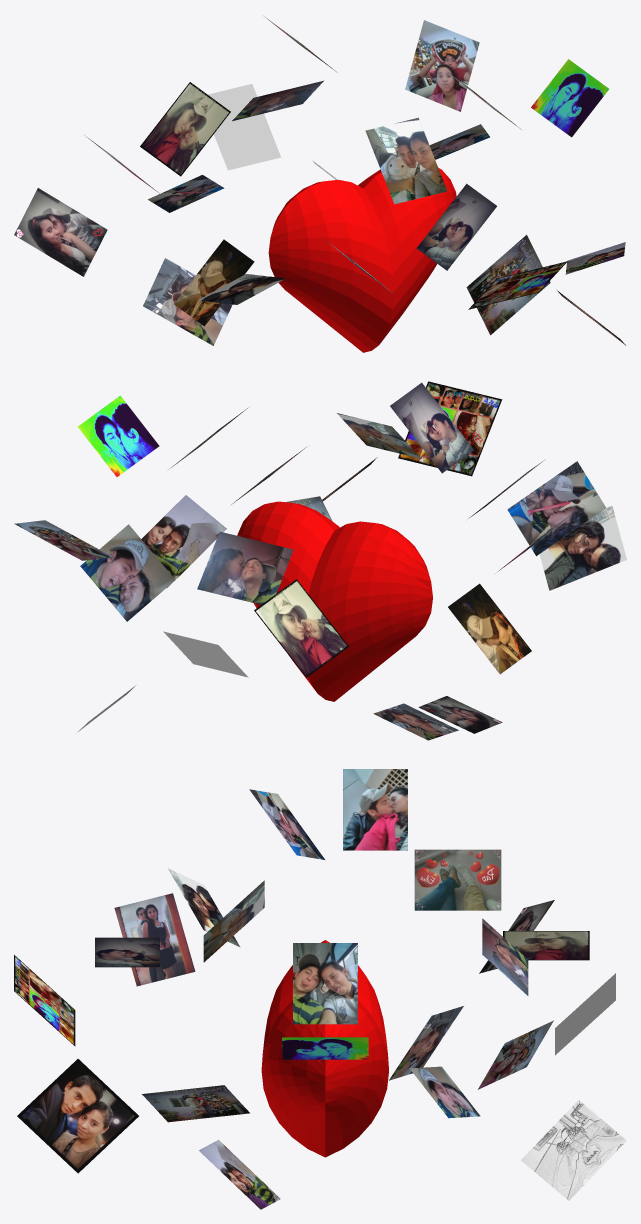
Rendered from paola.dae.
The picture shows the model from 3 angles, top to bottom: view 1: azimuth 30°, elevation 25°; view 2: azimuth 150°, elevation 25°; view 3: azimuth 270°, elevation 25°; orthographic projection. The views are drawn at different scales.
Visible parts, largest first — view 1: SketchUp, image_20, image_4, image_0, image_11, image_16, image_10, image_15, image_2, image_18, image_8, image_21 (+5 smaller); view 2: SketchUp, image_1, image_19, image_3, image_11, image_13, image_5, image_21, image_10, image_18, image_15, image_4 (+4 smaller); view 3: SketchUp, image_9, image_12, image_6, image_14, image_17, image_7, image_8, image_21, image_11, image_10, image_15 (+10 smaller).
Boxes of the visible parts, left/top/right/bottom form: SketchUp: left=268, top=168, right=456, bottom=352; image_20: left=365, top=117, right=447, bottom=204; image_4: left=405, top=20, right=479, bottom=111; image_0: left=14, top=188, right=107, bottom=276; image_11: left=140, top=82, right=230, bottom=176; image_16: left=208, top=84, right=280, bottom=170; image_10: left=416, top=183, right=496, bottom=270; image_15: left=531, top=59, right=608, bottom=137; image_2: left=143, top=258, right=232, bottom=345; image_18: left=174, top=239, right=254, bottom=326; image_8: left=466, top=235, right=550, bottom=335; image_21: left=468, top=261, right=567, bottom=309; SketchUp: left=237, top=501, right=432, bottom=701; image_1: left=507, top=461, right=605, bottom=556; image_19: left=197, top=531, right=293, bottom=604; image_3: left=80, top=524, right=175, bottom=621; image_11: left=254, top=579, right=348, bottom=677; image_13: left=539, top=505, right=626, bottom=590; image_5: left=141, top=495, right=226, bottom=587; image_21: left=398, top=381, right=502, bottom=476; image_10: left=390, top=382, right=473, bottom=473; image_18: left=448, top=583, right=531, bottom=674; image_15: left=78, top=395, right=159, bottom=476; image_4: left=14, top=520, right=113, bottom=560; SketchUp: left=261, top=940, right=388, bottom=1157; image_9: left=17, top=1059, right=138, bottom=1173; image_12: left=414, top=849, right=501, bottom=910; image_6: left=521, top=1100, right=626, bottom=1200; image_14: left=343, top=769, right=407, bottom=850; image_17: left=293, top=943, right=357, bottom=1024; image_7: left=114, top=893, right=195, bottom=986; image_8: left=142, top=1085, right=249, bottom=1122; image_21: left=14, top=955, right=75, bottom=1046; image_11: left=503, top=931, right=589, bottom=960; image_10: left=95, top=937, right=159, bottom=967; image_15: left=282, top=1037, right=368, bottom=1059.
Size of the model in its own units: 13.68 by 14.15 by 7.6.
